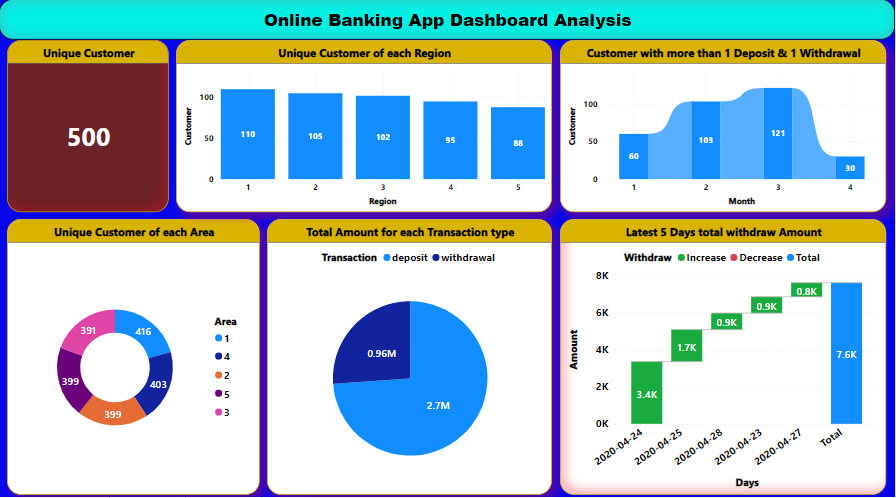

The dashboard page shown, as its layout file describes it:
{"tool":"powerbi","page":{"name":"Page 1","canvas":[1280,720],"ordinal":0},"visuals":[{"type":"textbox","box":[0,0,1280,58.5],"z":0},{"type":"card","title":"Unique Customer","fields":{"Values":["Sum(Query1.COUNT(DISTINCT(customer_id)))"]},"box":[11.4,58.6,231.4,245.7],"z":1000},{"type":"donutChart","title":"Unique Customer of each Area","fields":{"Category":["Query3.area_id"],"Y":["Sum(Query3.COUNT(DISTINCT(c.customer_id)))"]},"box":[11.4,314.3,361.4,394.3],"z":2000},{"type":"clusteredColumnChart","title":"Unique Customer of each Region","fields":{"Y":["Sum(Query2.COUNT(DISTINCT(c.customer_id)))"],"Category":["Query2.region_id"]},"box":[252.9,58.6,537.1,245.7],"z":3000},{"type":"pieChart","title":"Total Amount for each Transaction type","fields":{"Category":["Query4.txn_type"],"Y":["Sum(Query4.SUM(txn_amount))"]},"box":[382.9,314.3,407.1,394.3],"z":4000},{"type":"ribbonChart","title":"Customer with more than 1 Deposit & 1 Withdrawal","fields":{"Category":["Query5.month"],"Y":["Sum(Query5.customers_count)"]},"box":[801.4,58.6,465.7,245.7],"z":5000},{"type":"waterfallChart","title":"Latest 5 Days total withdraw Amount","fields":{"Y":["Sum(Query8.sum(t.txn_amount))"],"Category":["Query8.td"]},"box":[801.4,314.3,465.7,394.3],"z":6000}]}

Visuals, with their boxes in screenshot pixels (x1, y1, x2, y2), scaled from the page's 1280x720 canvas onto the 896x498 screenshot:
textbox: (x1=0, y1=0, x2=895, y2=40)
"Unique Customer" card: (x1=8, y1=41, x2=170, y2=210)
"Unique Customer of each Area" donutChart: (x1=8, y1=217, x2=261, y2=490)
"Unique Customer of each Region" clusteredColumnChart: (x1=177, y1=41, x2=553, y2=210)
"Total Amount for each Transaction type" pieChart: (x1=268, y1=217, x2=553, y2=490)
"Customer with more than 1 Deposit & 1 Withdrawal" ribbonChart: (x1=561, y1=41, x2=887, y2=210)
"Latest 5 Days total withdraw Amount" waterfallChart: (x1=561, y1=217, x2=887, y2=490)
